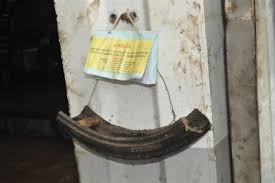tire: (55, 105, 210, 163)
